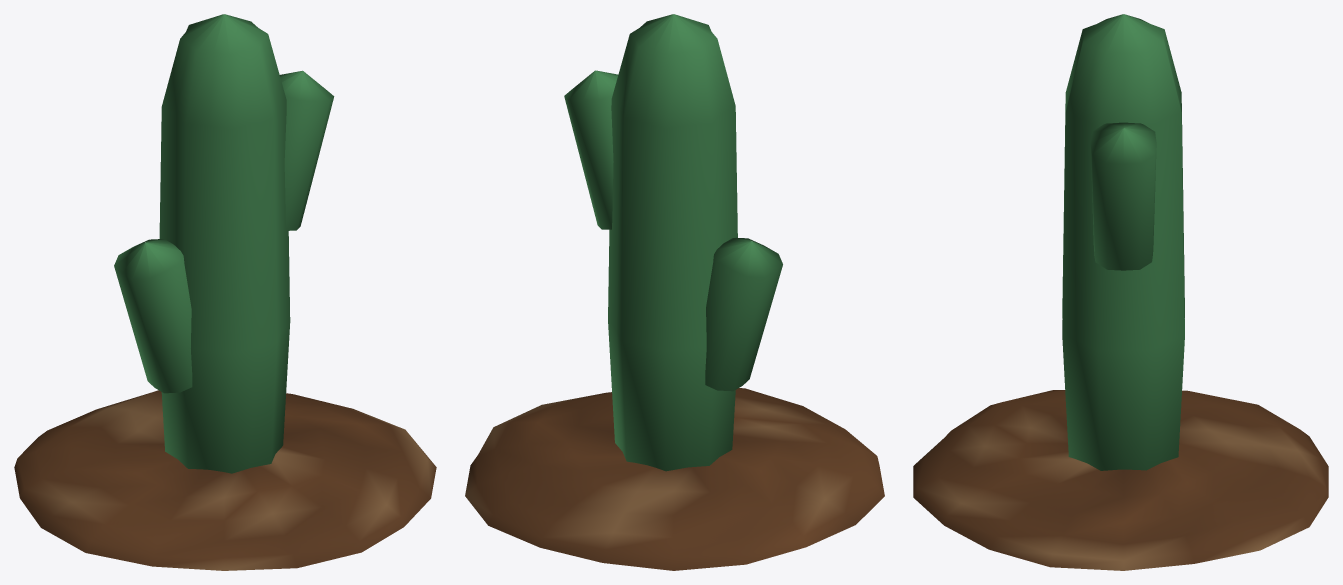
Rendered from plant-cactus-3.gltf.
3 renders of one model, left to right at view 1: azimuth 30°, elevation 25°; view 2: azimuth 150°, elevation 25°; view 3: azimuth 270°, elevation 25°, orthographic.
Size of the model in its own units: 1.28 by 1.57 by 1.26.
